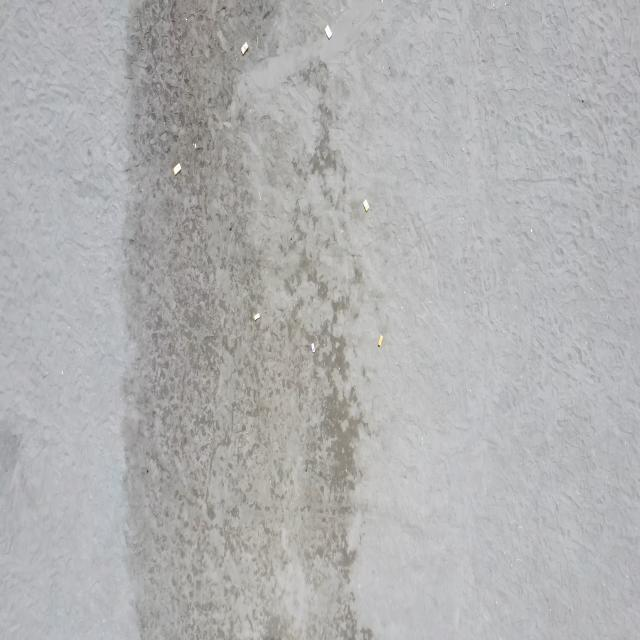retort-pouch: (361, 197, 371, 214), (173, 161, 182, 177), (377, 332, 384, 348), (252, 311, 262, 322), (310, 339, 316, 356)
